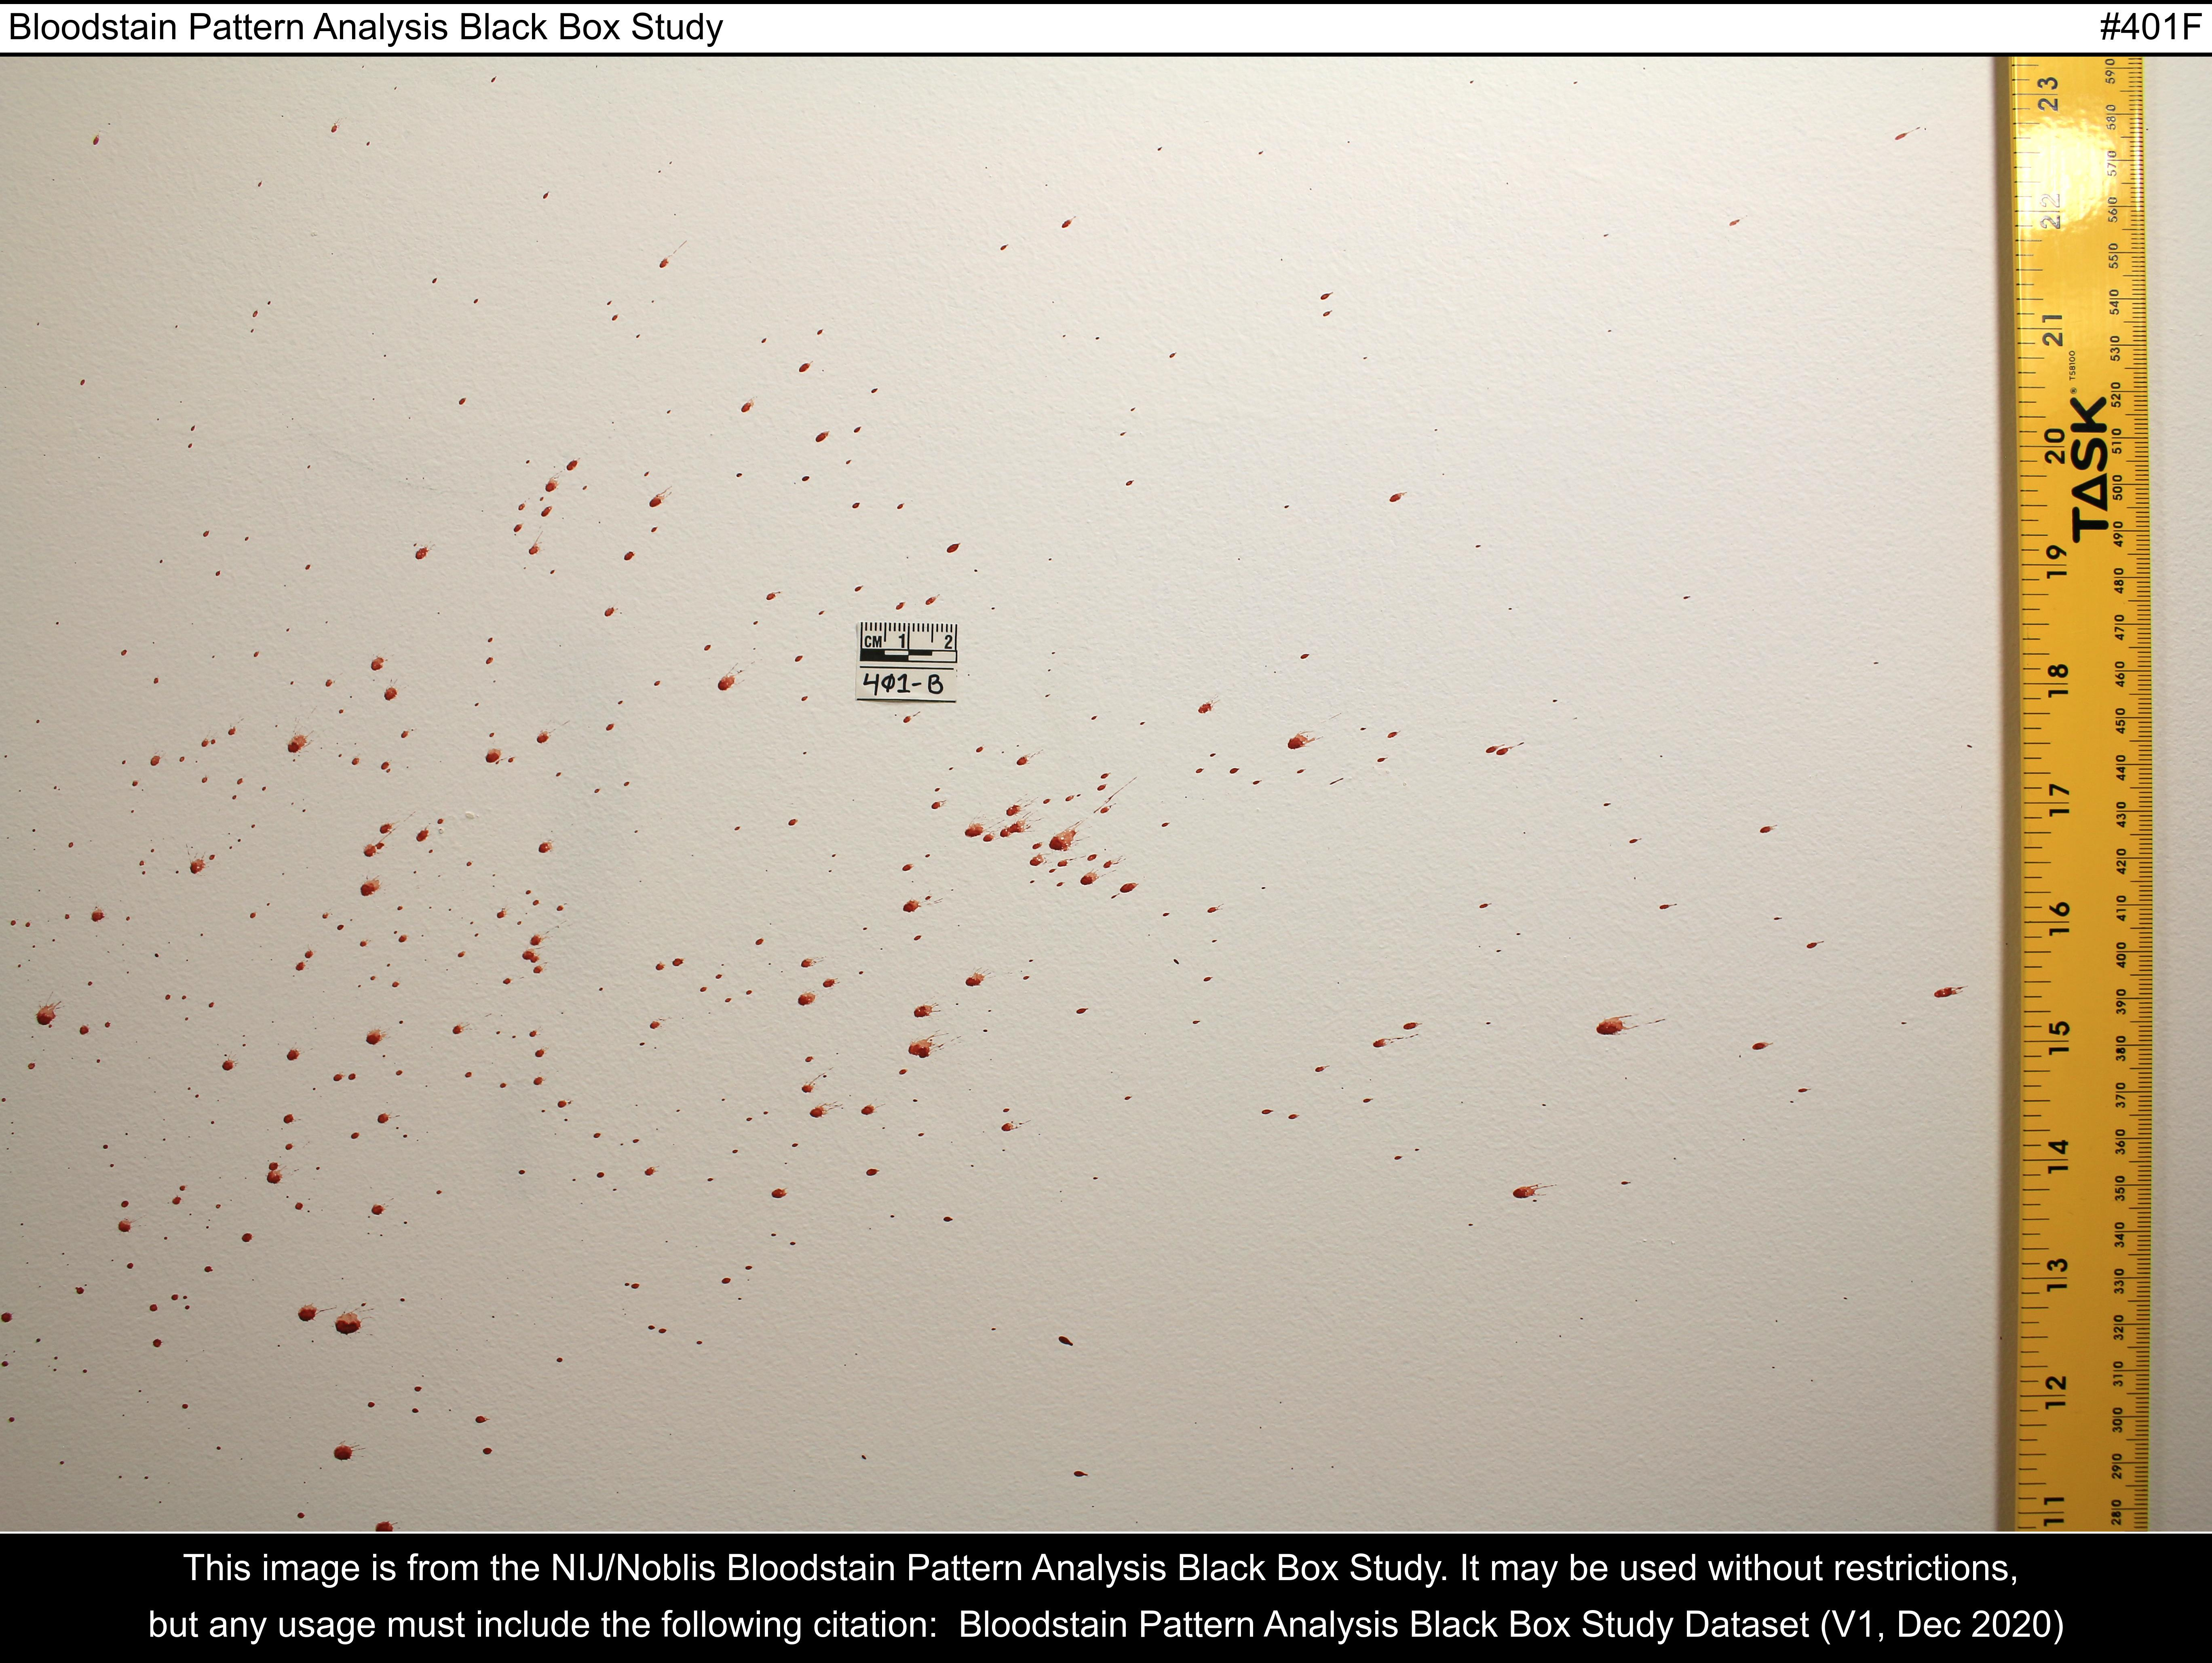Impact: (136, 737, 1163, 1212)
